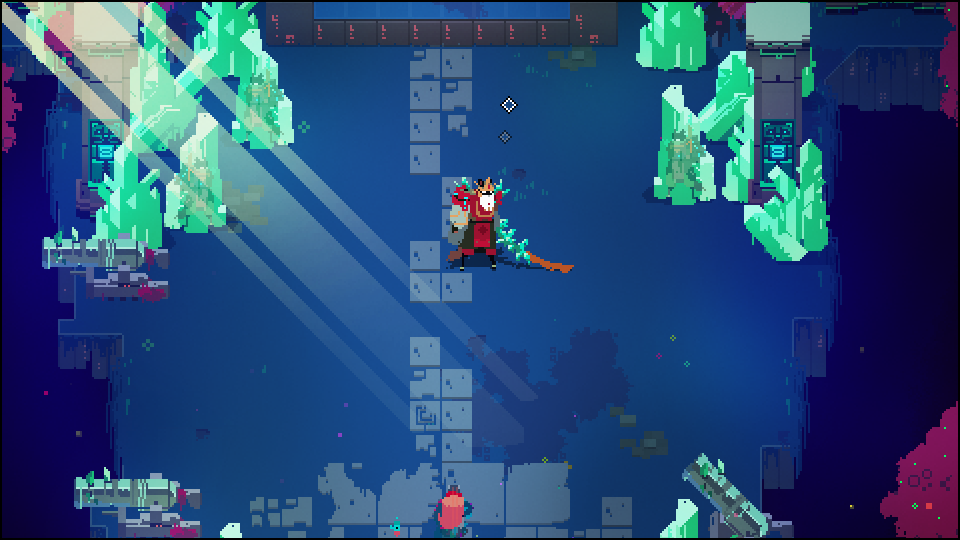hanged_man: (444, 173, 538, 275)
player: (436, 483, 468, 533)
